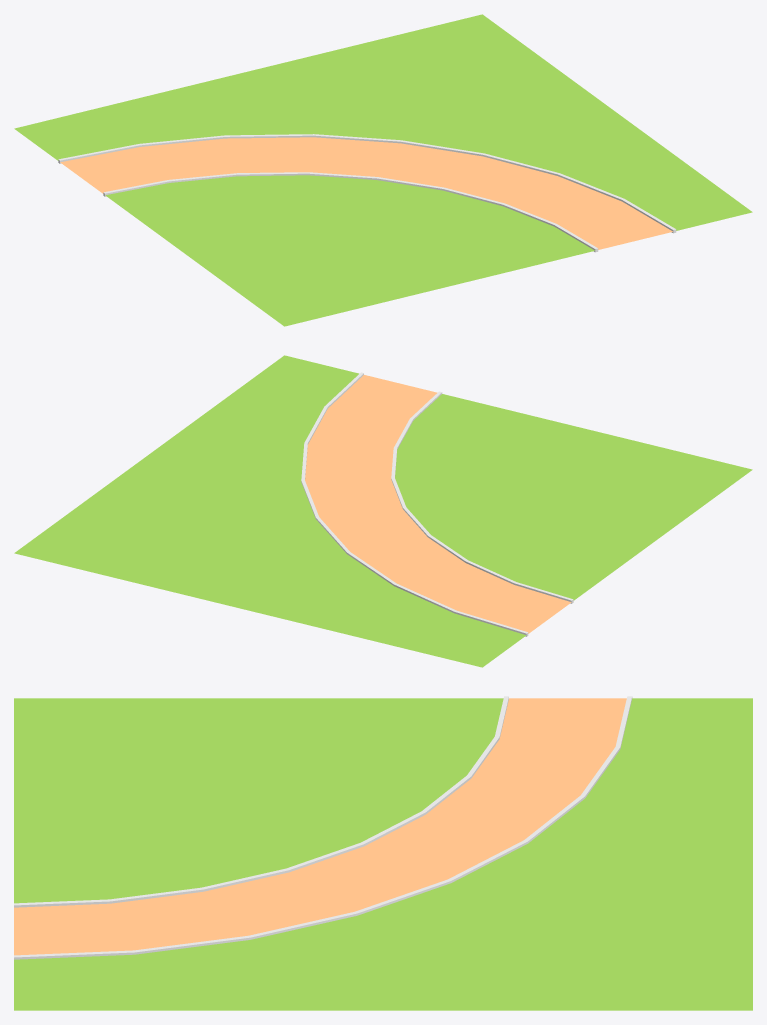
File: park_road_006.glb
3 views of the same model, one above another, from view 1: azimuth 30°, elevation 25°; view 2: azimuth 150°, elevation 25°; view 3: azimuth 270°, elevation 25° (orthographic). The views are drawn at different scales.
Visible parts, largest first — view 1: park_road_006; view 2: park_road_006; view 3: park_road_006.
Boxes of the visible parts, x1,y1,x2,y2 form: park_road_006: (14, 14, 752, 326); park_road_006: (14, 355, 752, 667); park_road_006: (14, 696, 752, 1010).
Bounding box in the file's own units: 30 × 0.2 × 30.
1 material, 1 textured.
